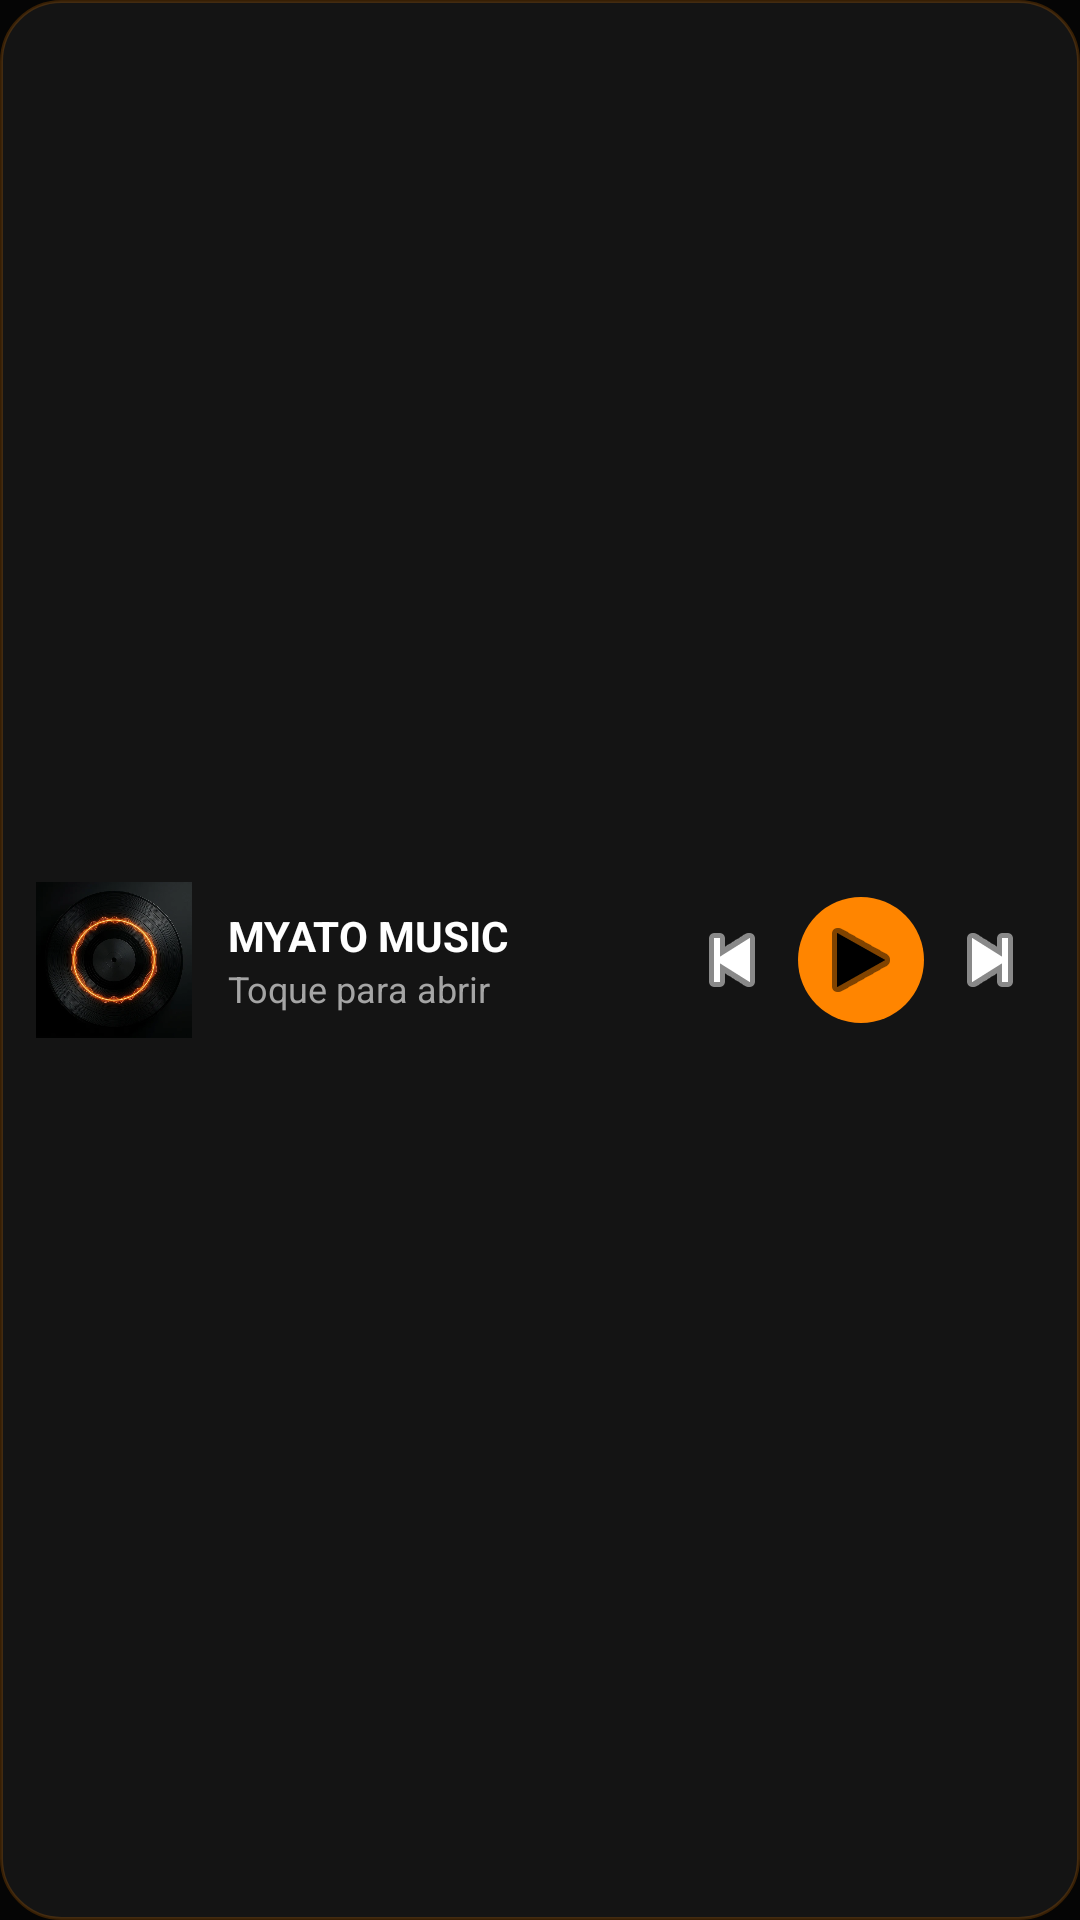

Screen size 1080px x 1920px. Icon name, then its box in pixels as (x1, y1, x2, y2):
Capa do álbum: (36, 882, 192, 1038)
Música anterior: (709, 933, 755, 987)
Próxima música: (967, 933, 1013, 987)
Reproduzir ou pausar: (798, 897, 924, 1023)
